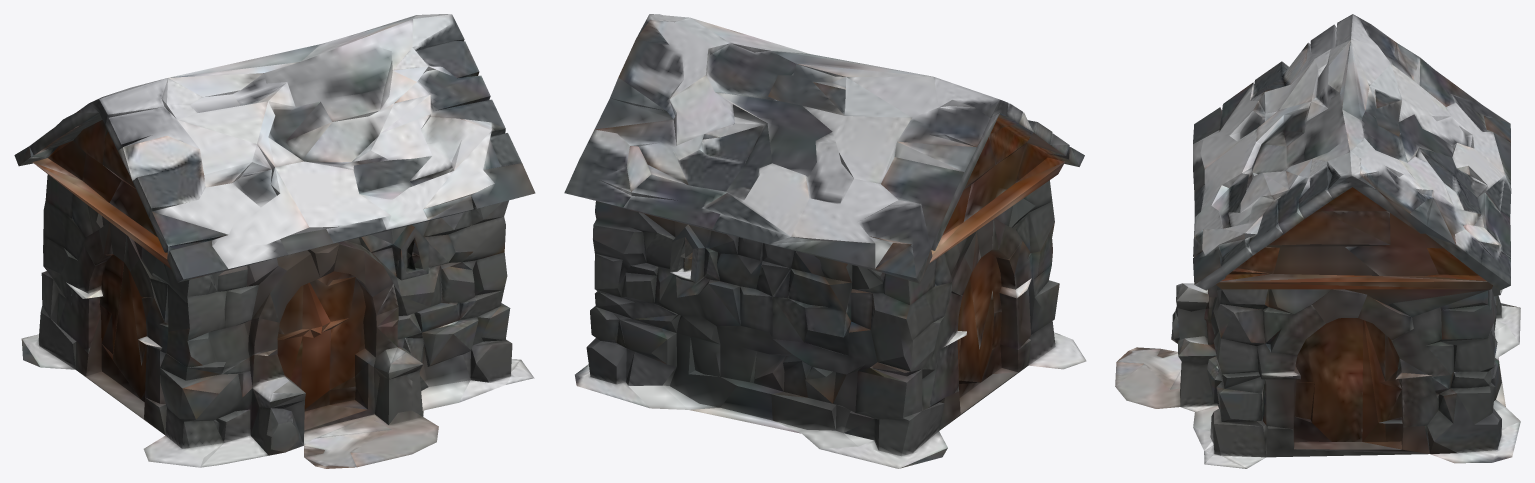
File: dwarfhouse.glb
3 renders of one model, left to right at view 1: azimuth 30°, elevation 25°; view 2: azimuth 150°, elevation 25°; view 3: azimuth 270°, elevation 25°, orthographic. The views are drawn at different scales.
Size of the model in its own units: 1.89 by 1.47 by 1.84.
1 material, 1 textured.
